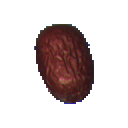gd: (14, 19, 105, 128)
